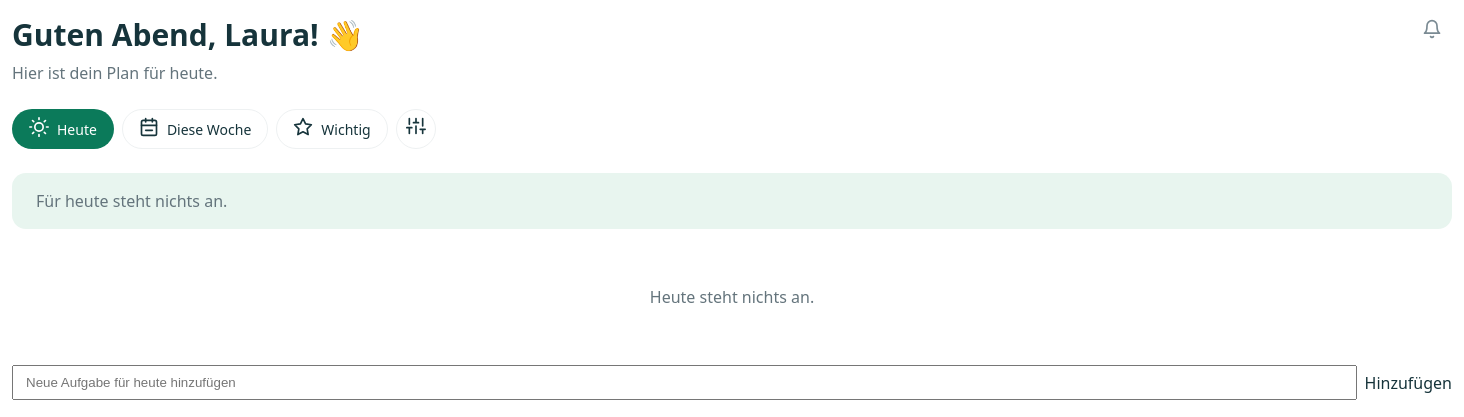
Test: AufgabenPageComponent › switches the rendered list and empty state when a different filter is selected
The image size is (1464, 417).
Click the button with class "app-filter-chip" showing "Wichtig": x=332, y=129 [276,109,388,149]
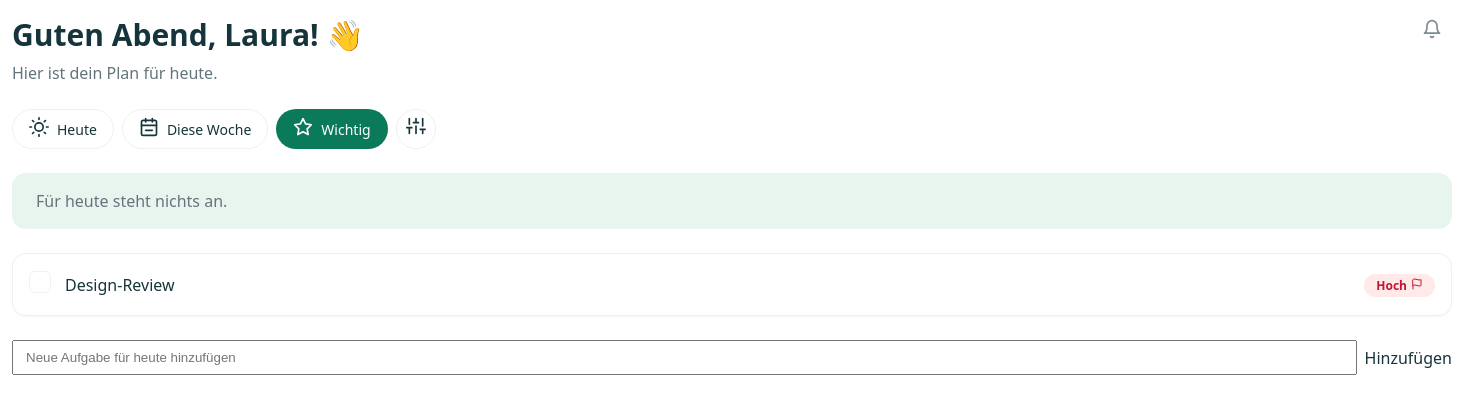
Check: the text "Heute steht nichts an." is not shown
Check: the text "Design-Review" is shown, box [65,274,175,296]
